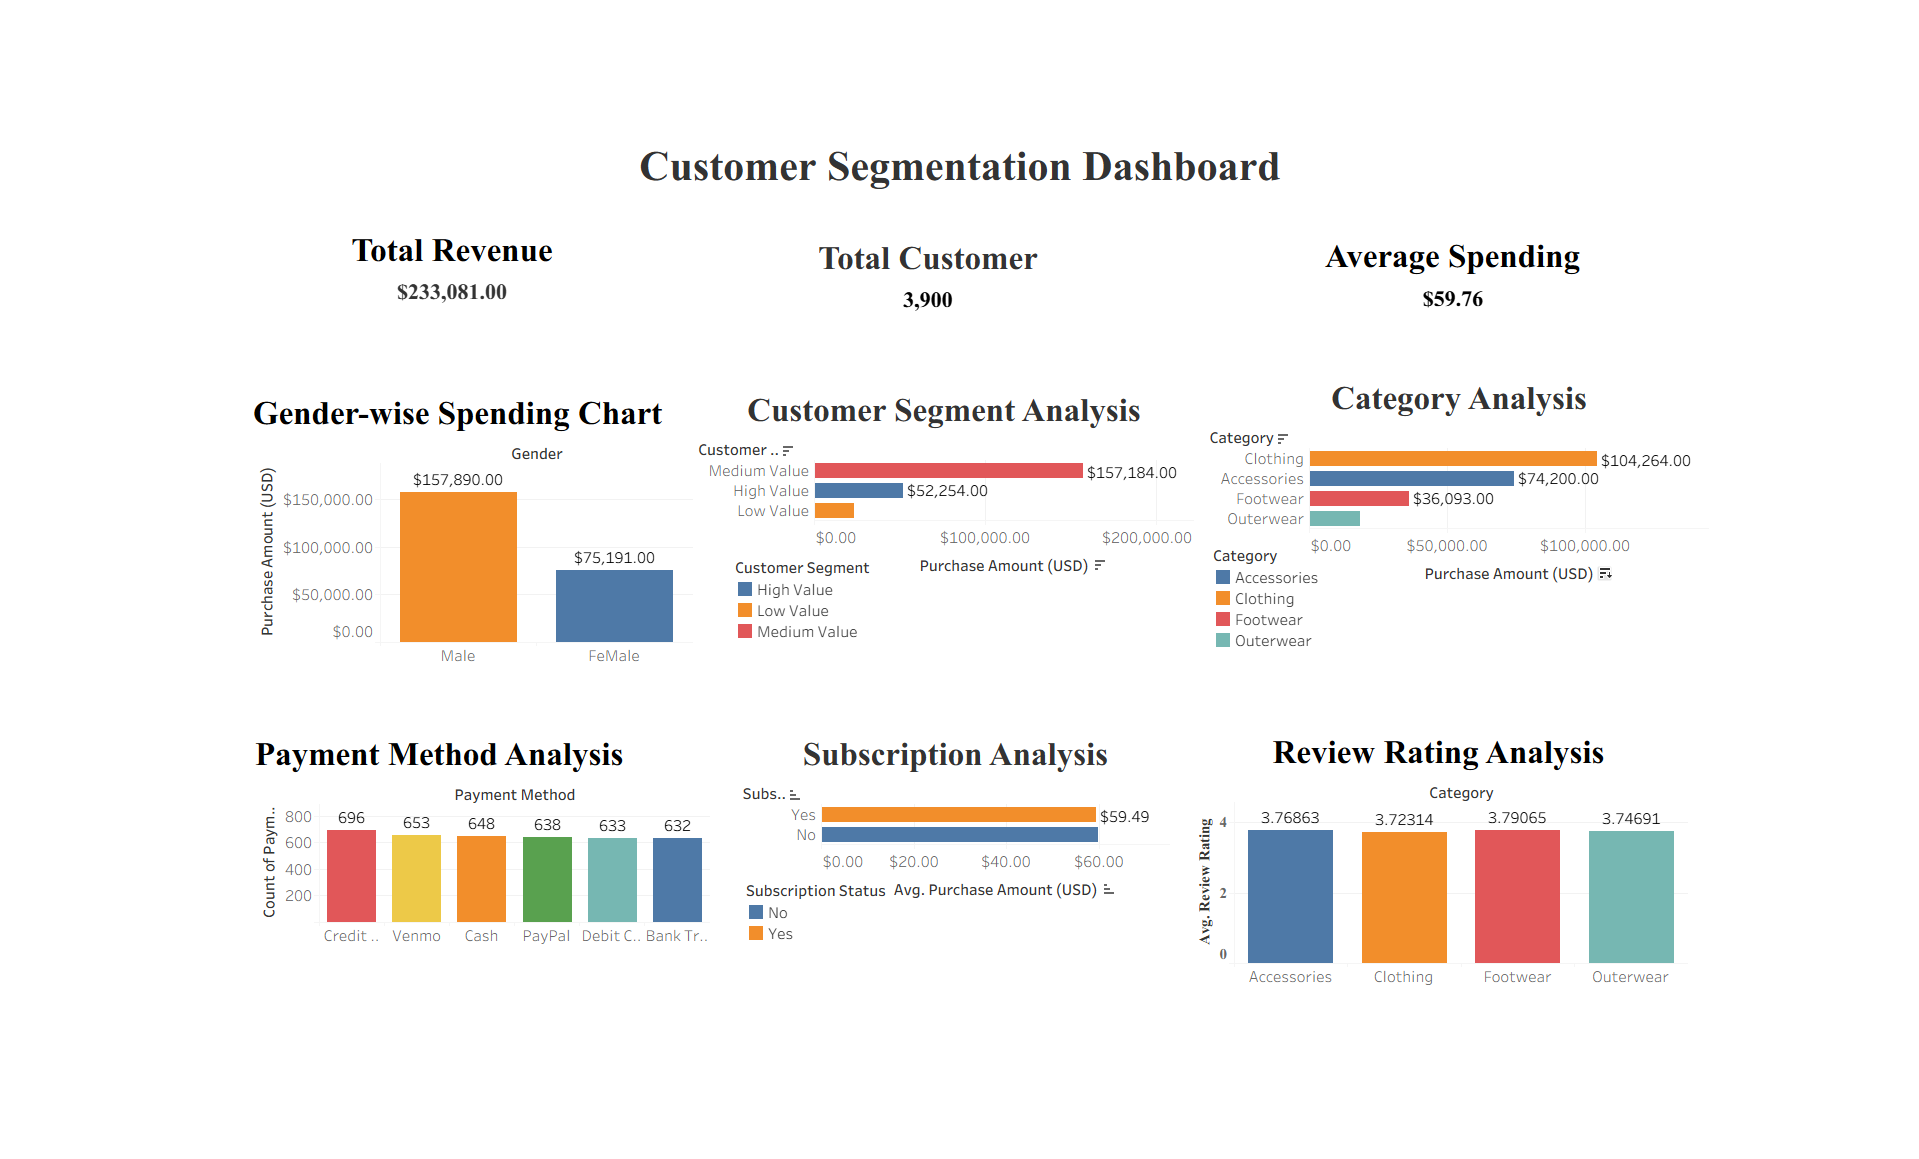

This screenshot's page, from the dashboard's own definition file:
{"tool":"tableau","page":{"name":"Dashboard 1","canvas":[1000,1000],"units":"permille","ordinal":0},"visuals":[{"type":"title","box":[5.3,8.9,989.3,61.1]},{"type":"worksheet","title":"Sheet 3","mark":"Automatic","box":[676,114.4,304.7,112.2]},{"type":"worksheet","title":"Sheet 1","mark":"Automatic","box":[312,116.7,333.3,93.3]},{"type":"worksheet","title":"Sheet 6","mark":"Automatic","rows":["Category"],"cols":["Purchase Amount (USD)"],"box":[666,272.2,333.3,345.6]},{"type":"worksheet","title":"Sheet 5","mark":"Automatic","rows":["Customer Segment"],"cols":["Purchase Amount (USD)"],"box":[322.7,285.6,333.3,236.7]},{"type":"worksheet","title":"Sheet 4","mark":"Automatic","rows":["Purchase Amount (USD)"],"cols":["Gender"],"box":[26,288.9,296,306.7]},{"type":"legend","title":"Sheet 6","param":"[federated.1yrtphw183mr751f61eak1in53yw].[none:Category:nk]","box":[668.7,460,93.3,117.8]},{"type":"legend","title":"Sheet 5","param":"[federated.1yrtphw183mr751f61eak1in53yw].[none:Customer Segment:nk]","box":[350,473.3,93.3,94.4]},{"type":"worksheet","title":"Sheet 9","mark":"Automatic","rows":["Review Rating"],"cols":["Category"],"box":[652.7,665.6,332.7,286.7]},{"type":"worksheet","title":"Sheet 7","mark":"Automatic","rows":["Payment Method"],"cols":["Payment Method"],"box":[27.3,667.8,306,255.6]},{"type":"worksheet","title":"Sheet 8","mark":"Automatic","rows":["Subscription Status"],"cols":["Purchase Amount (USD)"],"box":[354,667.8,286,248.9]},{"type":"legend","title":"Sheet 8","param":"[federated.1yrtphw183mr751f61eak1in53yw].[none:Subscription Status:nk]","box":[357.3,832.2,93.3,71.1]}]}

Visuals, with their boxes on the dashboard's canvas, which has no fixed pixel size, in thousandths of its width and height (x1, y1, x2, y2). These are canvas units, not pixel positions in the 1919x1159 screenshot, which may show the page scaled, cropped or inside an application window:
title: {"left": 5, "top": 9, "right": 995, "bottom": 70}
"Sheet 3" worksheet: {"left": 676, "top": 114, "right": 981, "bottom": 227}
"Sheet 1" worksheet: {"left": 312, "top": 117, "right": 645, "bottom": 210}
"Sheet 6" worksheet: {"left": 666, "top": 272, "right": 999, "bottom": 618}
"Sheet 5" worksheet: {"left": 323, "top": 286, "right": 656, "bottom": 522}
"Sheet 4" worksheet: {"left": 26, "top": 289, "right": 322, "bottom": 596}
"Sheet 6" legend: {"left": 669, "top": 460, "right": 762, "bottom": 578}
"Sheet 5" legend: {"left": 350, "top": 473, "right": 443, "bottom": 568}
"Sheet 9" worksheet: {"left": 653, "top": 666, "right": 985, "bottom": 952}
"Sheet 7" worksheet: {"left": 27, "top": 668, "right": 333, "bottom": 923}
"Sheet 8" worksheet: {"left": 354, "top": 668, "right": 640, "bottom": 917}
"Sheet 8" legend: {"left": 357, "top": 832, "right": 451, "bottom": 903}
